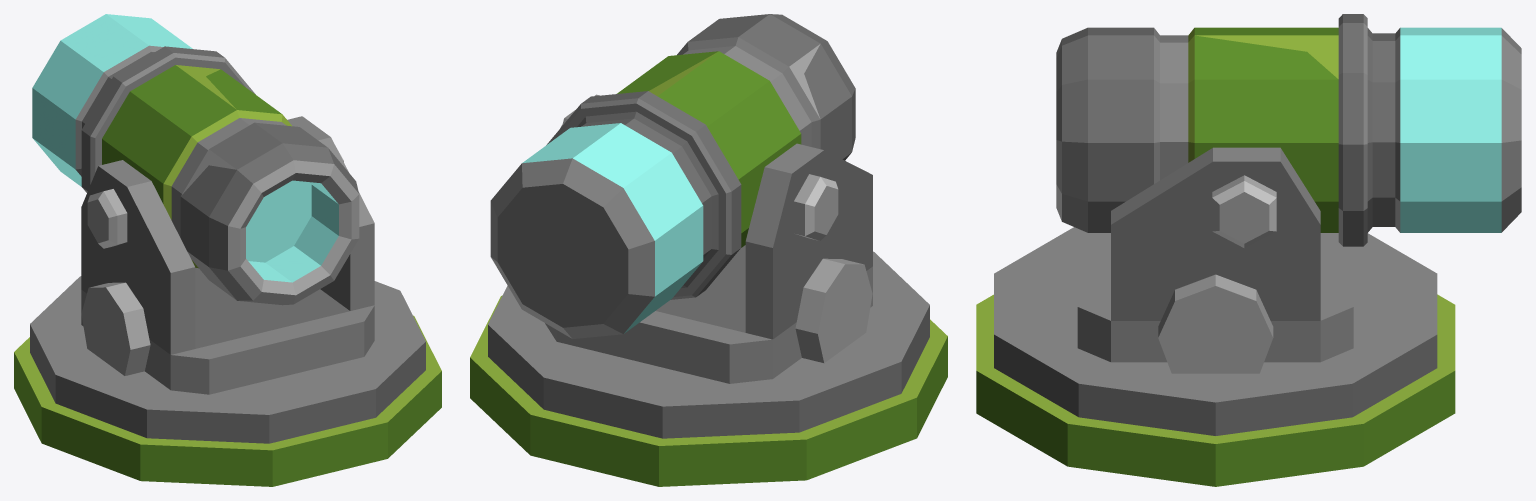
Rendered from tower_plasma_green_1.fbx.
The picture shows the model from 3 angles, left to right: view 1: azimuth 30°, elevation 25°; view 2: azimuth 150°, elevation 25°; view 3: azimuth 270°, elevation 25°; orthographic projection. The views are drawn at different scales.
Visible parts, largest first — view 1: top_plasma_green_1, tower_plasma_green_1; view 2: top_plasma_green_1, tower_plasma_green_1; view 3: top_plasma_green_1, tower_plasma_green_1.
Boxes of the visible parts, box(x1,y1,x2,y2) form: top_plasma_green_1: box(32, 14, 374, 394); tower_plasma_green_1: box(14, 276, 441, 486); top_plasma_green_1: box(490, 14, 872, 383); tower_plasma_green_1: box(470, 251, 947, 486); top_plasma_green_1: box(1056, 14, 1521, 373); tower_plasma_green_1: box(976, 227, 1455, 486).
Size of the model in its own units: 142 by 111 by 154.
